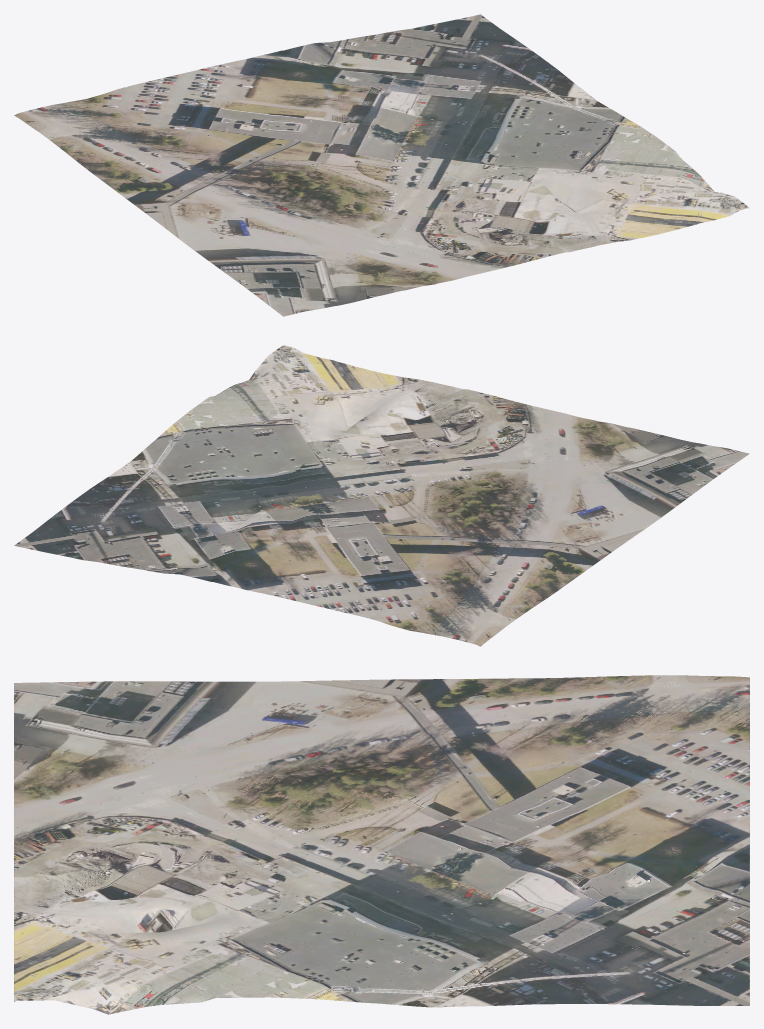
The model's file is CM_Terrain_24489844_6821636.fbx.
The picture shows the model from 3 angles, top to bottom: view 1: azimuth 30°, elevation 25°; view 2: azimuth 150°, elevation 25°; view 3: azimuth 270°, elevation 25°; orthographic projection. The views are drawn at different scales.
Visible parts, largest first — view 1: CM_Terrain_24489844_6821636_LOD0; view 2: CM_Terrain_24489844_6821636_LOD0; view 3: CM_Terrain_24489844_6821636_LOD0.
Boxes of the visible parts, x1,y1,x2,y2 form: CM_Terrain_24489844_6821636_LOD0: (14,14,749,316); CM_Terrain_24489844_6821636_LOD0: (14,345,749,646); CM_Terrain_24489844_6821636_LOD0: (14,675,749,1014).
Size of what is drawn, in the model's own units: 205 by 11.12 by 205.
